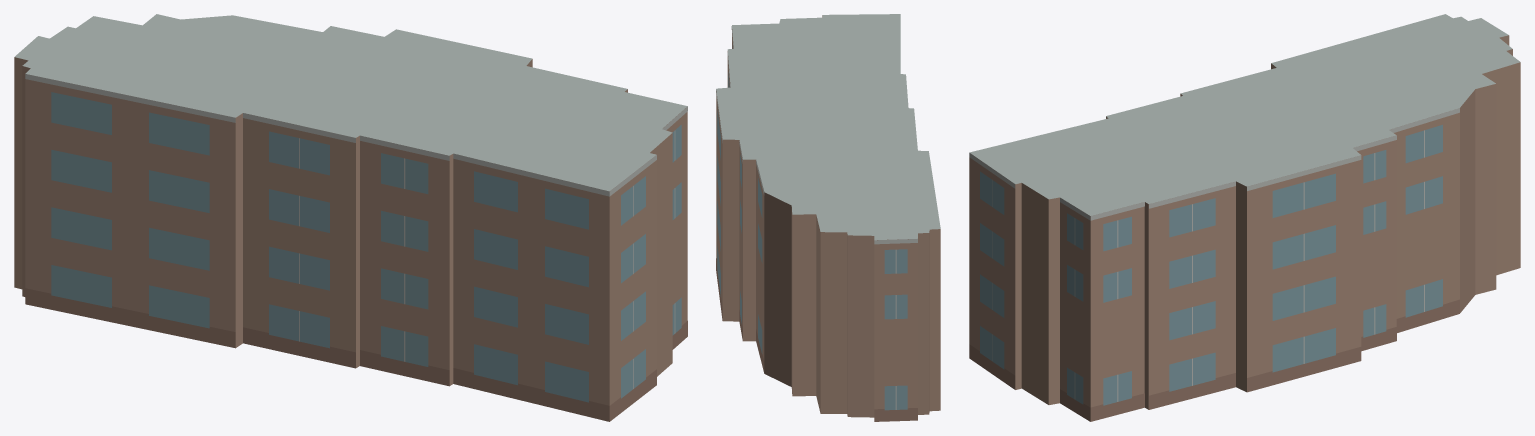
File: survey-upis-32469135.glb
The picture shows the model from 3 angles, left to right: view 1: azimuth 30°, elevation 25°; view 2: azimuth 150°, elevation 25°; view 3: azimuth 270°, elevation 25°; orthographic projection. The views are drawn at different scales.
Visible parts, largest first — view 1: survey-upis-32469135.tmp; view 2: survey-upis-32469135.tmp; view 3: survey-upis-32469135.tmp.
Part boxes in pixels (x1,y1,x2,y2): survey-upis-32469135.tmp: [14, 14, 687, 421]; survey-upis-32469135.tmp: [716, 14, 940, 421]; survey-upis-32469135.tmp: [969, 14, 1520, 421].
Bounding box in the file's own units: 22.75 × 10.8 × 26.23.
